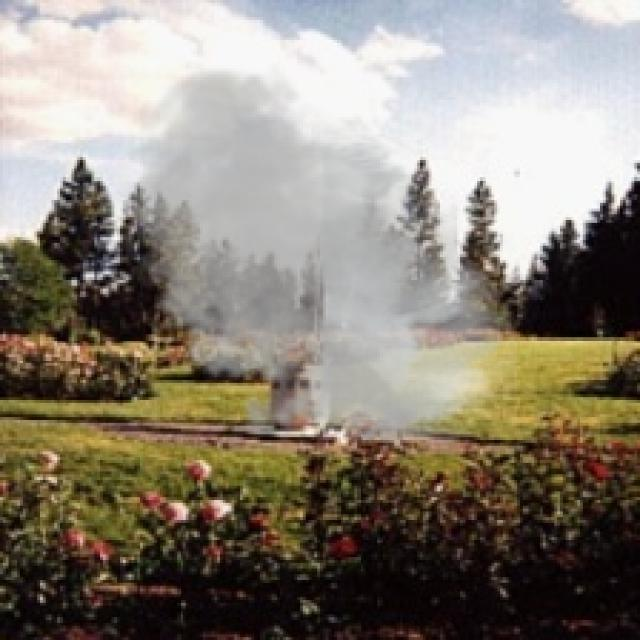smoke: (106, 60, 517, 457)
